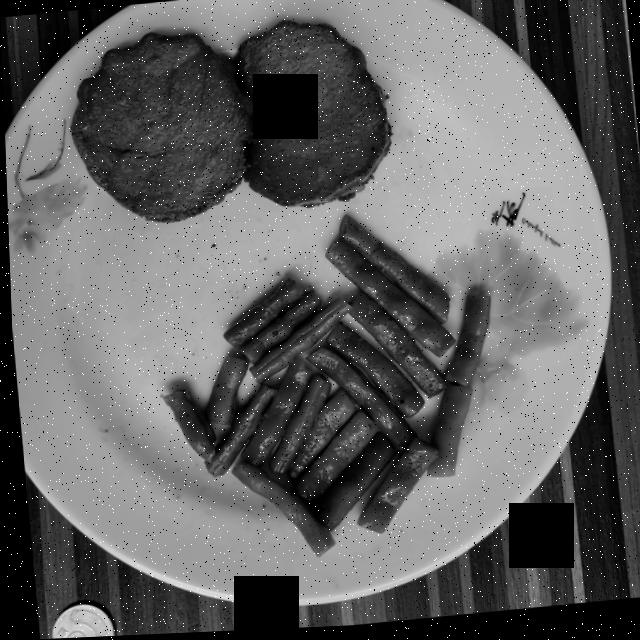Spam: (70, 22, 390, 223)
coin: (46, 603, 110, 639)
